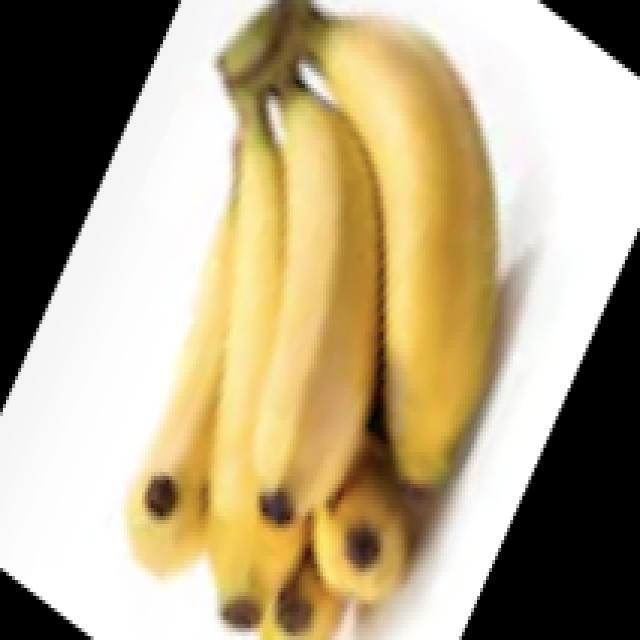Banana: (124, 0, 500, 638)
